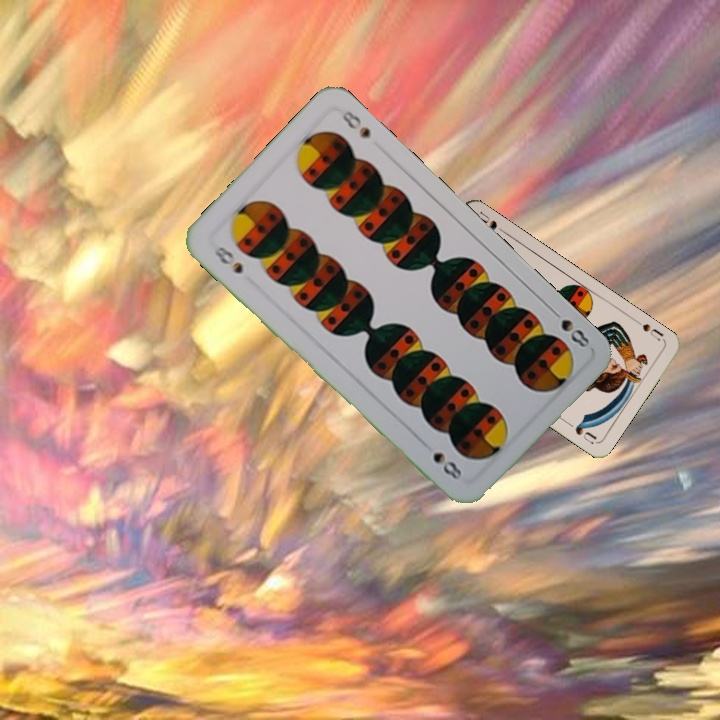S8: (546, 304, 592, 351), (209, 241, 246, 276)
SU: (631, 316, 666, 344)
